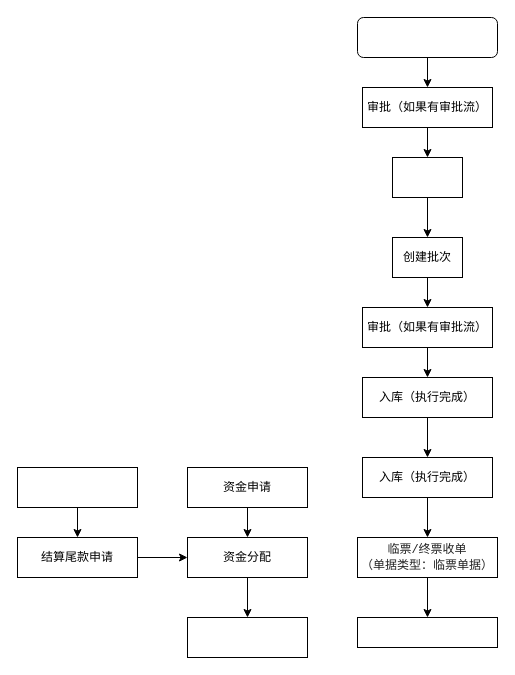
Some shapes in this 515 by 675 pixel diagram are drawn without their labels. The shapes that lost their labels are listed below. From the top down, each one's centre as x and y in pixels, then its label:
At (427,37): "外贸采购 （支付方式不是LC）".
At (427,177): "双签".
At (77,487): "结算".
At (247,637): "财务付款".
At (427,632): "结临终票收单".
